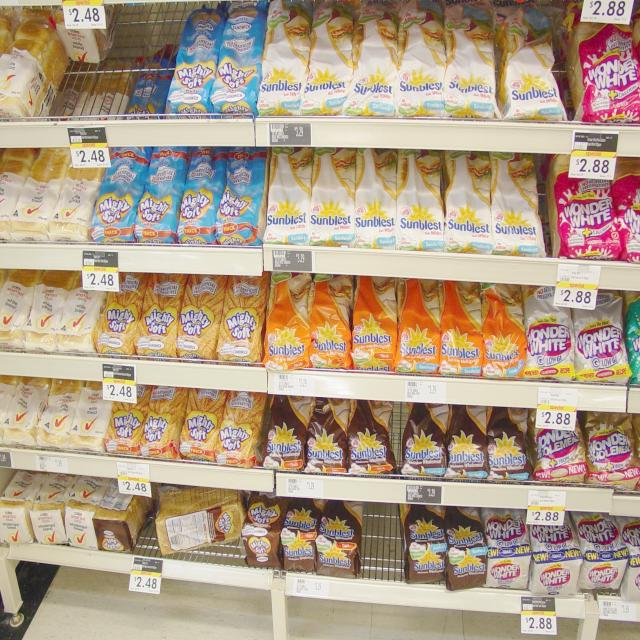empty_space: (65, 39, 162, 107)
